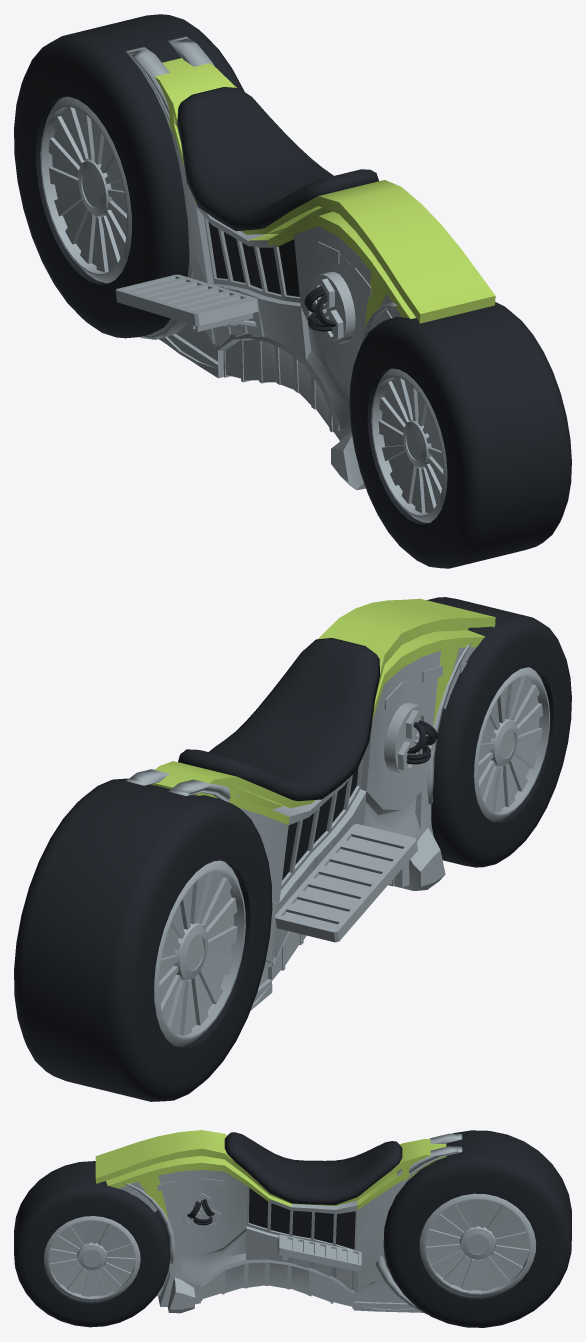
File: kestrel.glb
The picture shows the model from 3 angles, top to bottom: view 1: azimuth 30°, elevation 25°; view 2: azimuth 150°, elevation 25°; view 3: azimuth 270°, elevation 25°; orthographic projection. The views are drawn at different scales.
Parts seen in each view (by area): view 1: chassis, rear-wheel, front-wheel; view 2: front-wheel, chassis, rear-wheel; view 3: chassis, front-wheel, rear-wheel.
Part boxes in pixels (left/top/right/bottom): chassis: left=115, top=36, right=495, bottom=490; rear-wheel: left=349, top=302, right=571, bottom=568; front-wheel: left=14, top=14, right=244, bottom=338; front-wheel: left=14, top=778, right=272, bottom=1101; chassis: left=126, top=598, right=495, bottom=1010; rear-wheel: left=427, top=597, right=571, bottom=867; chassis: left=95, top=1130, right=462, bottom=1314; front-wheel: left=383, top=1130, right=571, bottom=1327; rear-wheel: left=14, top=1161, right=170, bottom=1327.
Size of the model in its own units: 0.7535 by 1.09 by 3.11.
